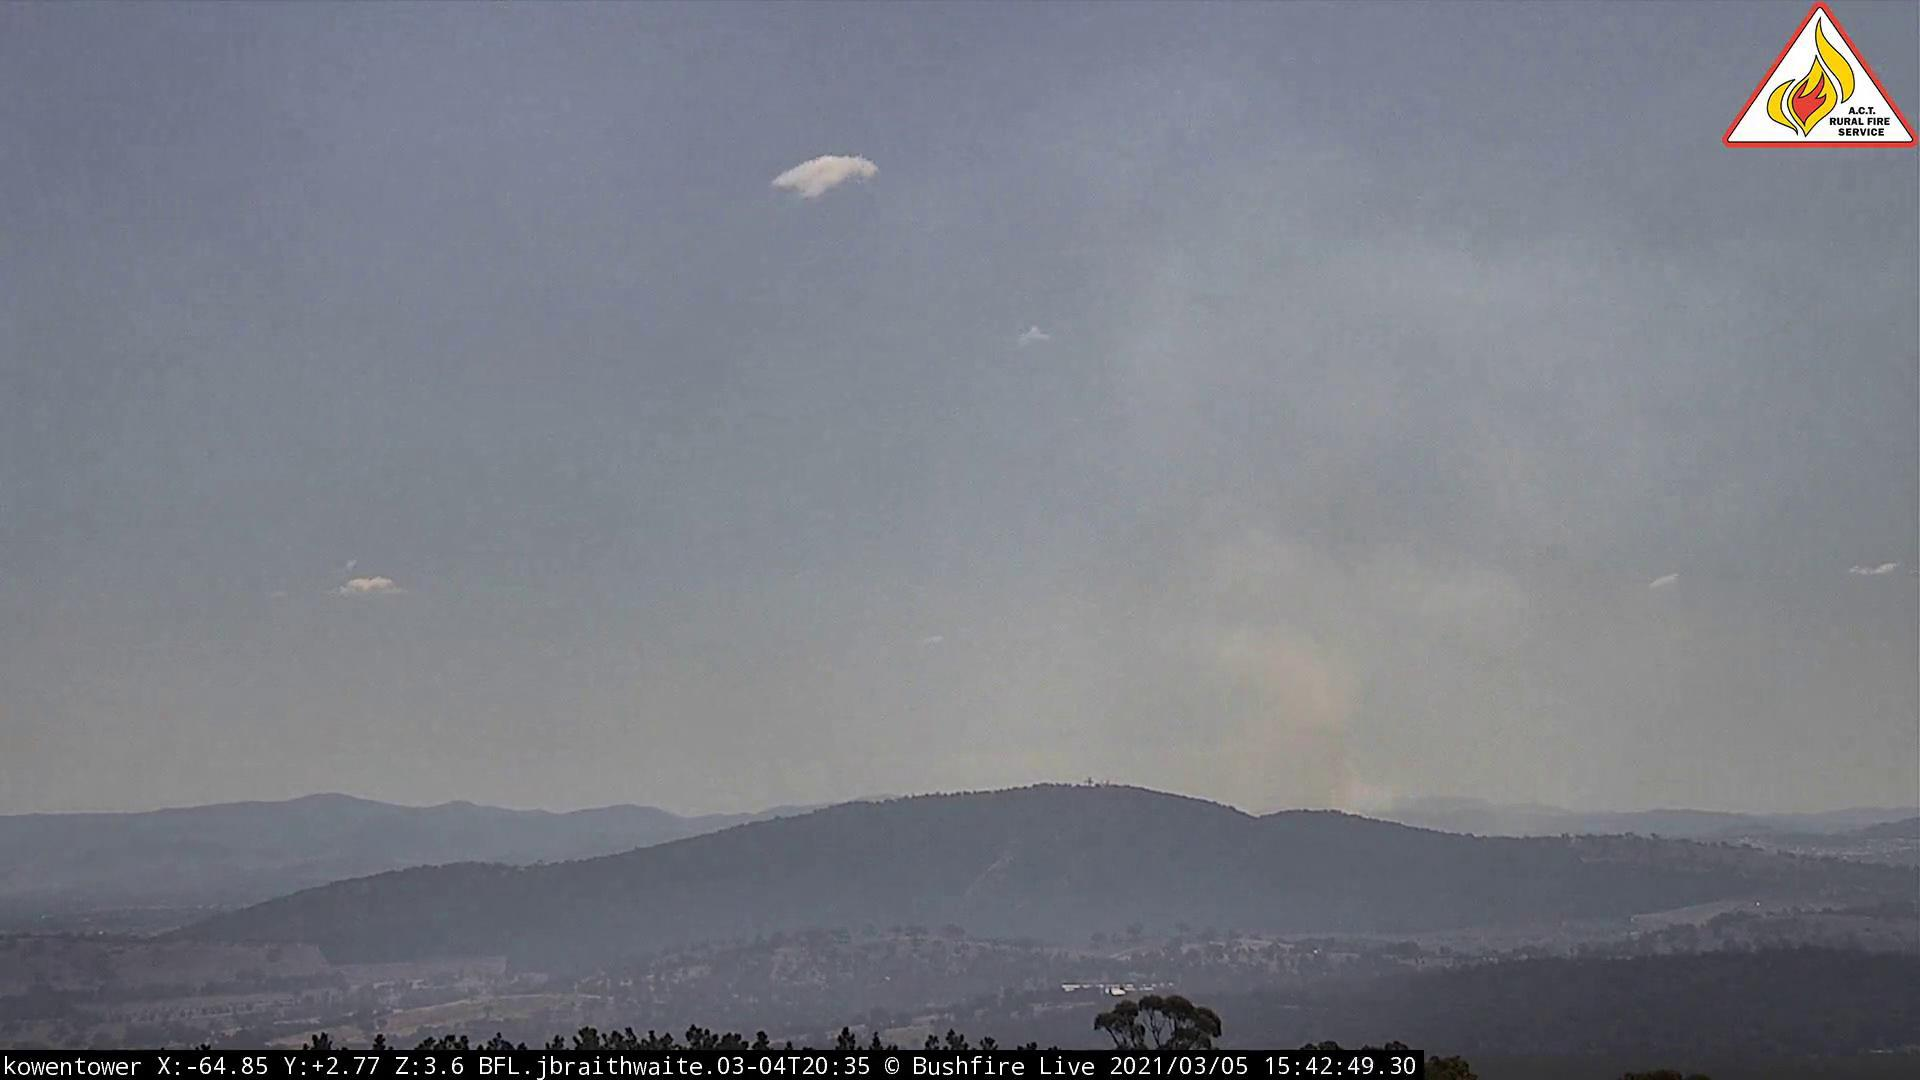Smoke: (1029, 195, 1701, 853)
